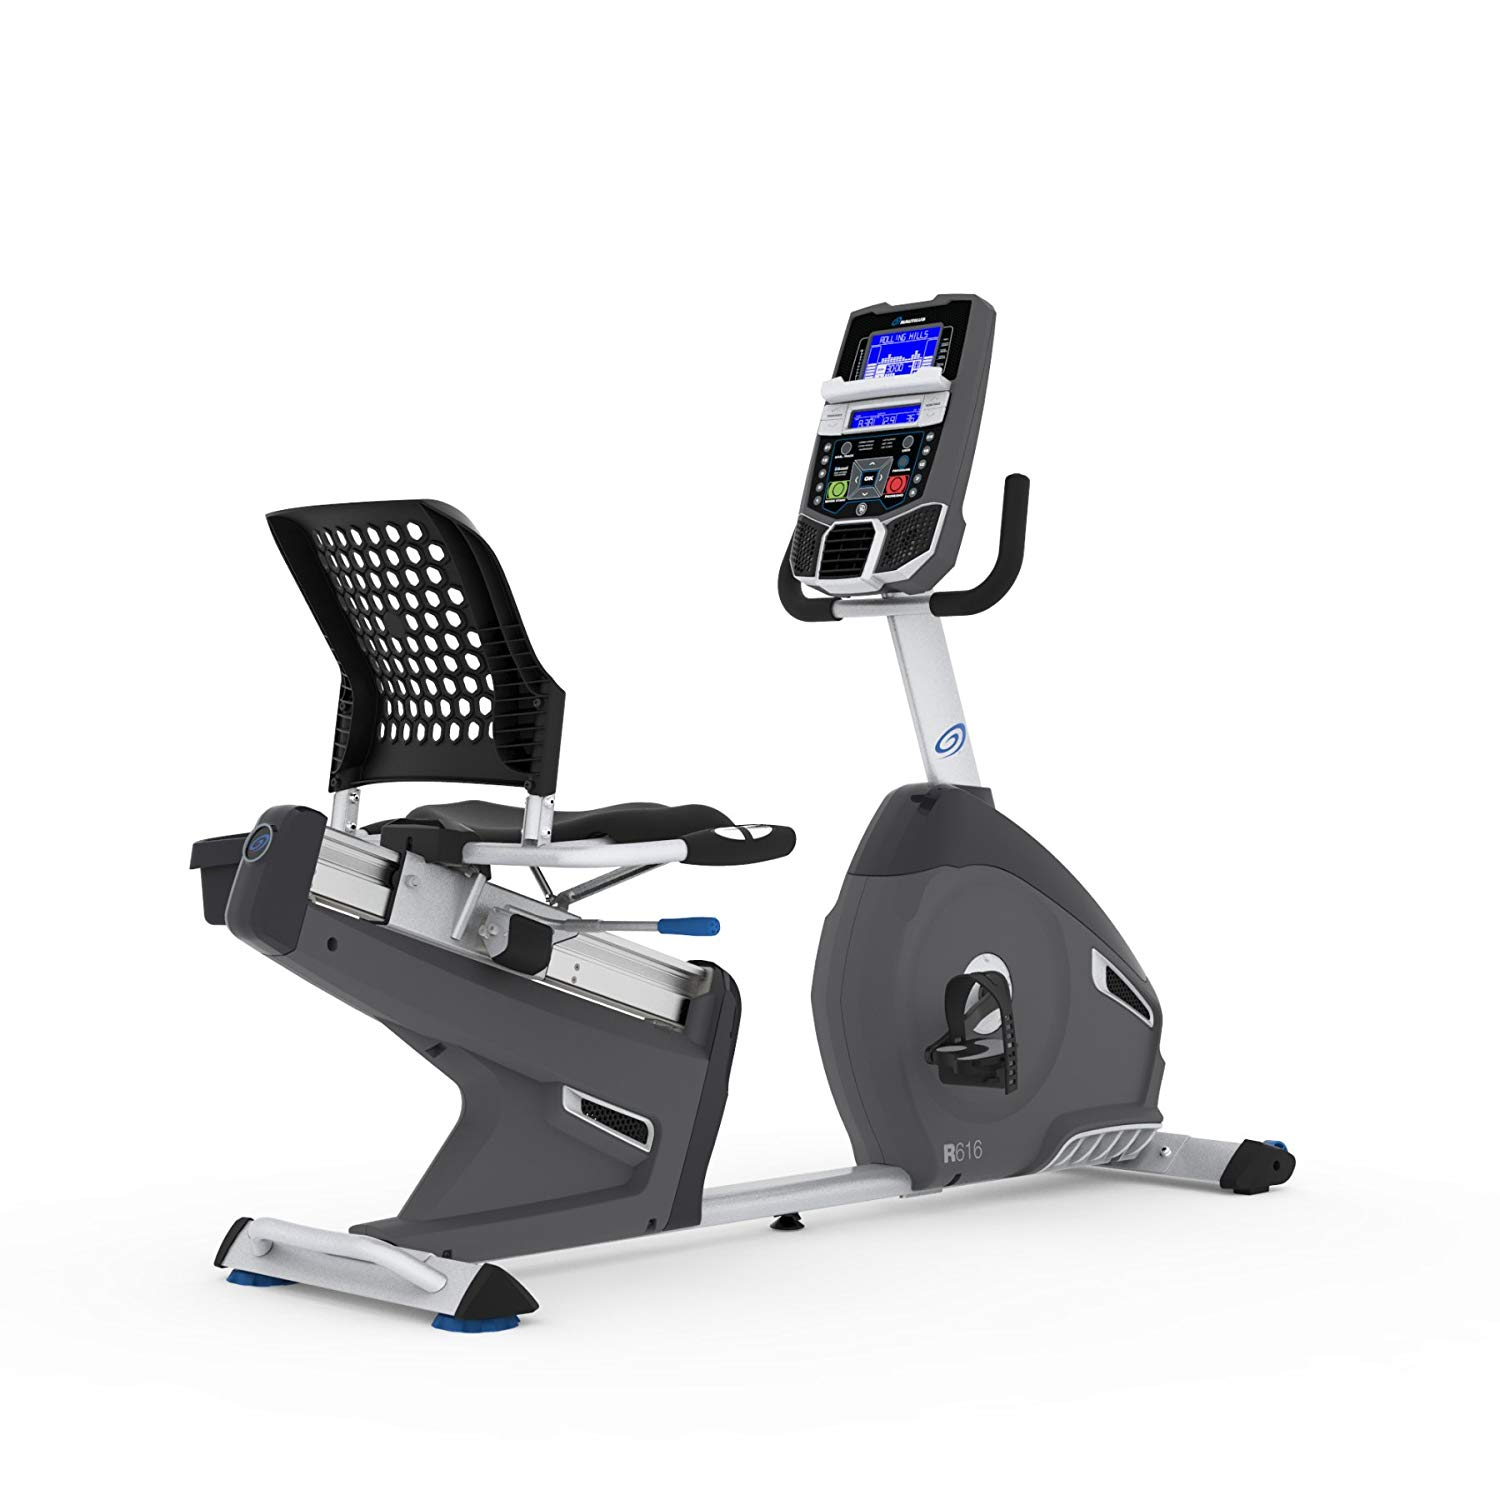gym_bike: (168, 293, 1375, 1337)
